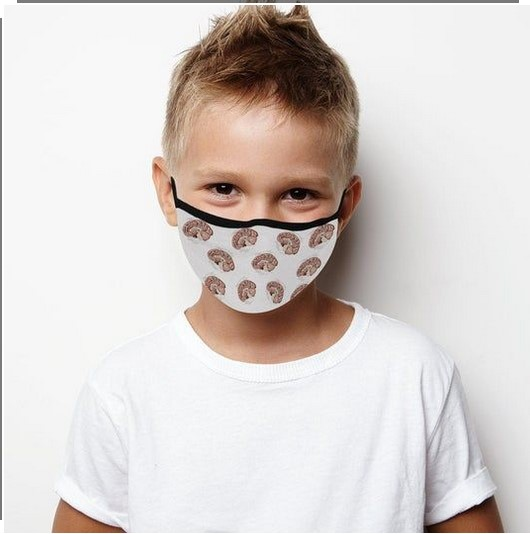face_with_mask: (147, 36, 367, 318)
